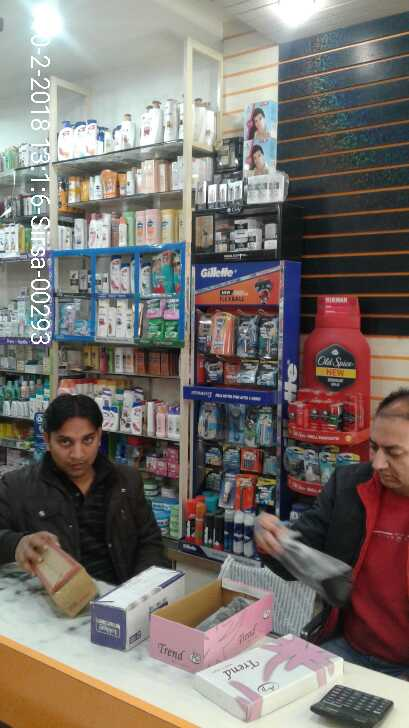gillete: (256, 313, 277, 358), (213, 313, 236, 354), (198, 399, 220, 441), (226, 406, 249, 440), (238, 313, 256, 356), (256, 408, 275, 445), (256, 477, 275, 508), (237, 474, 253, 510), (198, 311, 211, 354), (257, 361, 278, 387), (220, 474, 235, 507), (185, 501, 196, 543), (240, 359, 257, 386), (204, 360, 223, 384), (234, 511, 244, 556), (244, 513, 254, 556), (241, 451, 261, 471), (224, 511, 234, 550), (224, 360, 239, 385), (196, 501, 204, 545), (214, 516, 224, 550), (206, 445, 223, 465), (263, 456, 280, 475), (204, 516, 214, 545), (224, 445, 239, 464)
venus: (59, 301, 73, 335), (73, 320, 90, 335)
